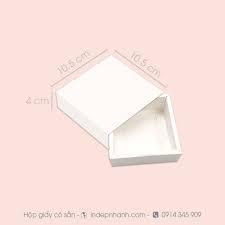box: (56, 54, 182, 167)
